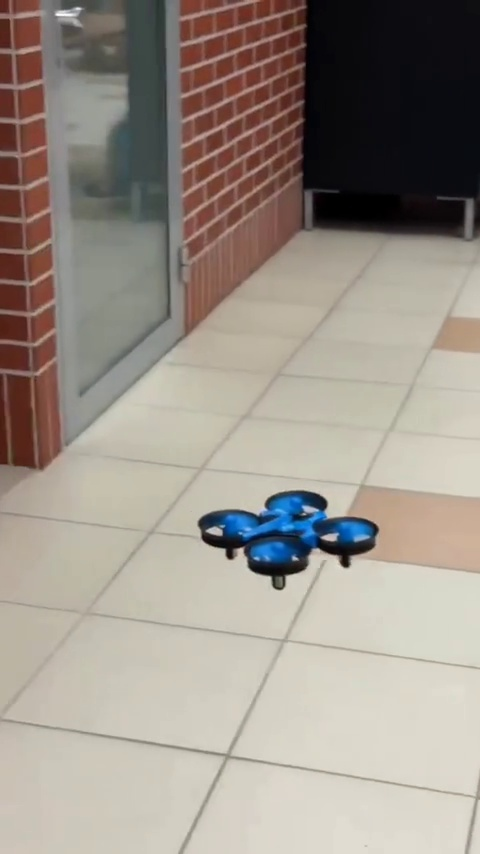drone: (201, 488, 376, 595)
